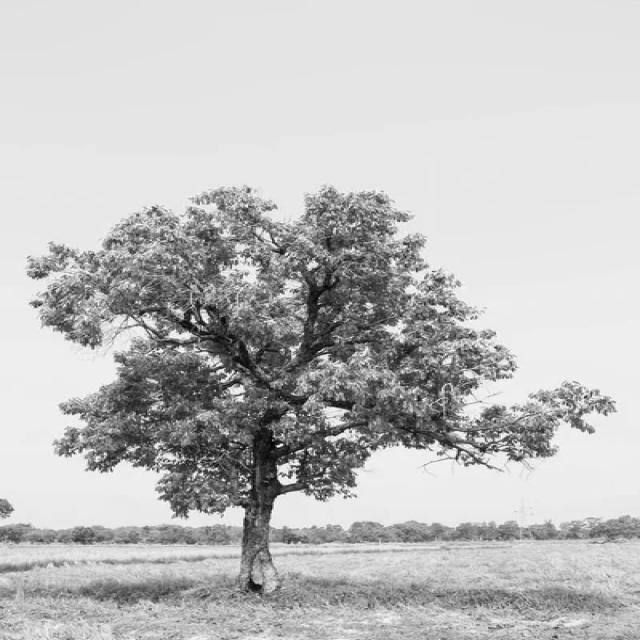Tree: (27, 186, 616, 594)
